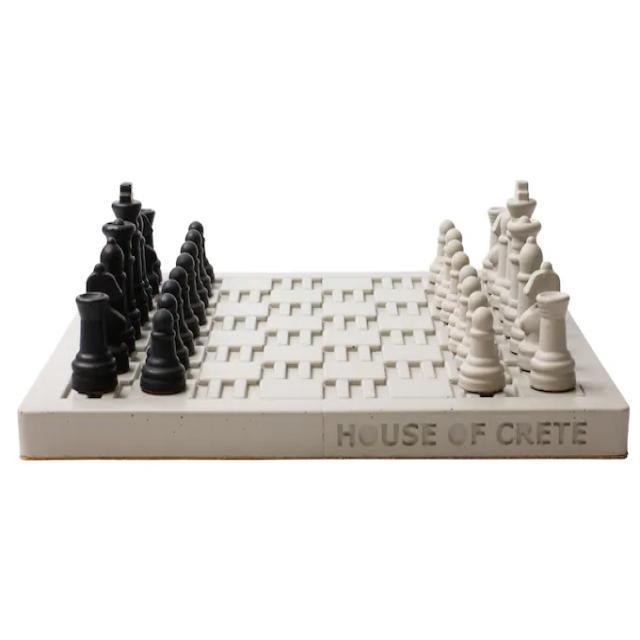chess-table-corners: (46, 375, 104, 415), (570, 372, 606, 412), (512, 262, 550, 290), (104, 268, 137, 293)
